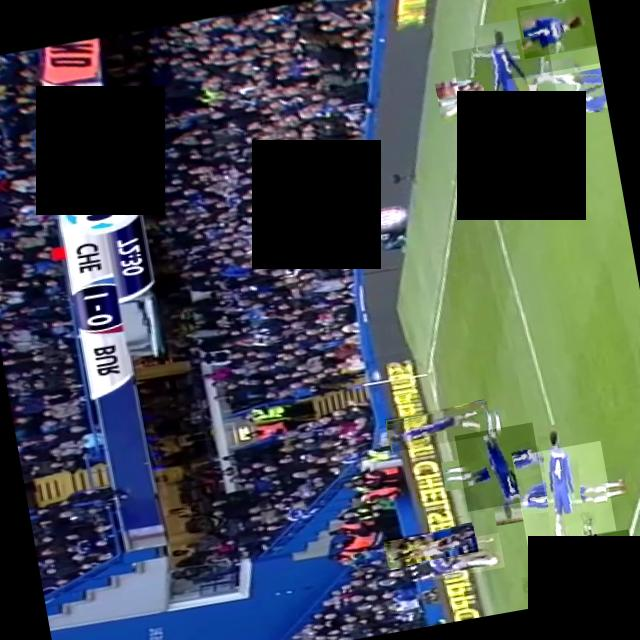referee: (542, 528, 638, 604)
soccer-player: (451, 34, 562, 144), (512, 440, 616, 544), (454, 420, 545, 510), (506, 61, 607, 122), (384, 399, 492, 451), (410, 531, 504, 581), (515, 0, 596, 57), (383, 523, 478, 568)
